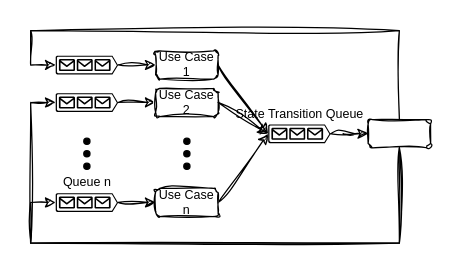
The diagram is 453 pixels wide and 275 high, and some of its shapes have lost their labels. Each missing label, with the box of its shape:
Queue 1: (55, 55, 118, 74)
Queue 2: (55, 92, 118, 111)
State Transition: (367, 118, 431, 148)
